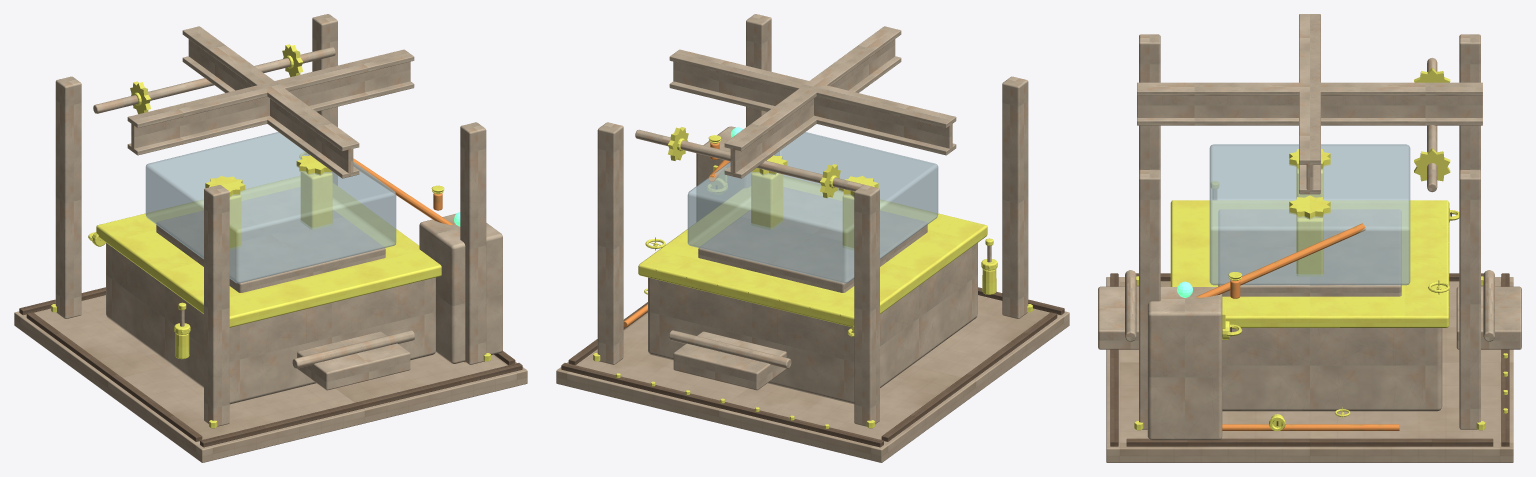
File: ff-assembler.glb
3 renders of one model, left to right at view 1: azimuth 30°, elevation 25°; view 2: azimuth 150°, elevation 25°; view 3: azimuth 270°, elevation 25°, orthographic. The views are drawn at different scales.
Visible parts, largest first — view 1: Post.002, GantryXWeb.001, GaugeGlass.006, Pad.005, Bolt.009, PadLipN.005, Arm.001, PadPipe.005, Arm; view 2: Post.002, GantryXWeb.001, Pad.005, GaugeGlass.006, Bolt.009, PadLipN.005, Arm.001, Arm; view 3: Post.002, GantryXWeb.001, GaugeGlass.006, Pad.005, Bolt.009, PadLipN.005, PadPipe.005, Arm.001, ArmGear.001, VentLip.006.
Boxes of the visible parts, left/top/right/bottom form: Post.002: left=55, top=14, right=502, bottom=426; GantryXWeb.001: left=127, top=26, right=414, bottom=390; GaugeGlass.006: left=145, top=132, right=396, bottom=283; Pad.005: left=14, top=295, right=527, bottom=462; Bolt.009: left=51, top=44, right=490, bottom=428; PadLipN.005: left=19, top=287, right=522, bottom=447; Arm.001: left=300, top=172, right=332, bottom=229; PadPipe.005: left=353, top=158, right=465, bottom=362; Arm: left=229, top=195, right=241, bottom=249; Post.002: left=597, top=14, right=1028, bottom=426; GantryXWeb.001: left=669, top=26, right=956, bottom=390; Pad.005: left=556, top=295, right=1069, bottom=462; GaugeGlass.006: left=687, top=132, right=938, bottom=283; Bolt.009: left=593, top=127, right=1032, bottom=428; PadLipN.005: left=561, top=185, right=1064, bottom=447; Arm.001: left=751, top=173, right=783, bottom=229; Arm: left=842, top=195, right=854, bottom=249; Post.002: left=1125, top=34, right=1494, bottom=440; GantryXWeb.001: left=1098, top=14, right=1521, bottom=349; GaugeGlass.006: left=1209, top=144, right=1410, bottom=285; Pad.005: left=1106, top=277, right=1513, bottom=462; Bolt.009: left=1134, top=68, right=1507, bottom=430; PadLipN.005: left=1110, top=212, right=1509, bottom=446; PadPipe.005: left=1196, top=223, right=1399, bottom=430; Arm.001: left=1296, top=216, right=1323, bottom=276; ArmGear.001: left=1289, top=195, right=1330, bottom=219; VentLip.006: left=1211, top=181, right=1459, bottom=431.
Size of the model in its own units: 3 by 2.36 by 3.12.
Materials: 10 (8 with a texture image).
